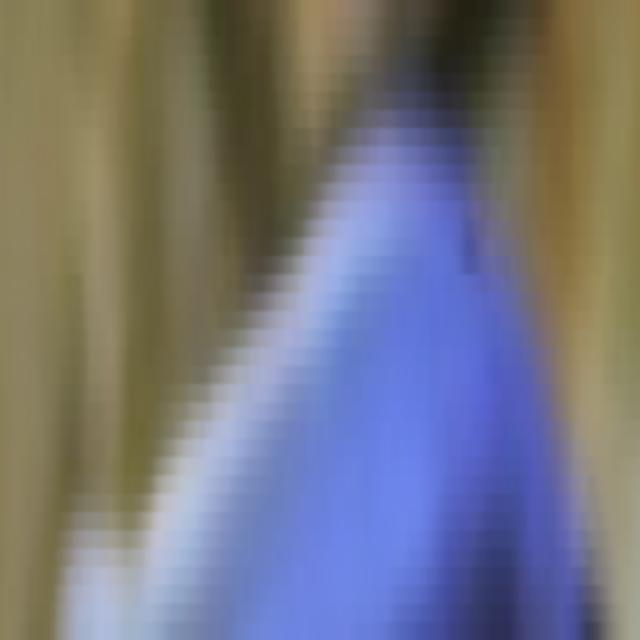fish: (3, 18, 640, 640)
